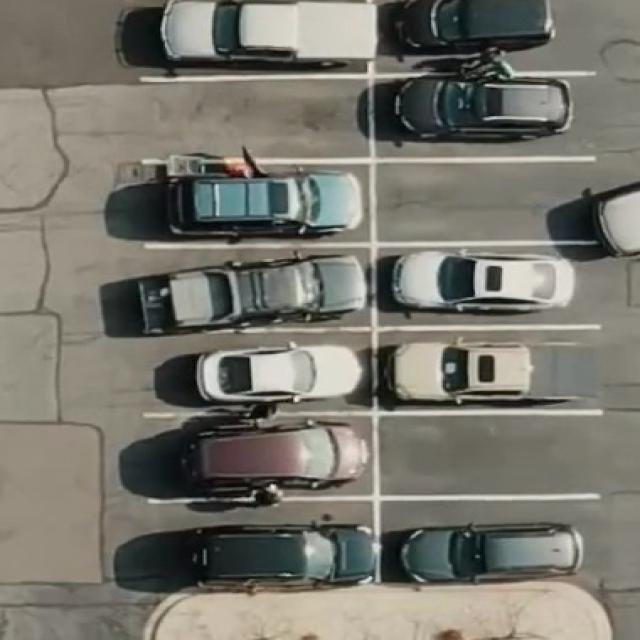space-empty: (138, 70, 371, 166), (372, 156, 593, 248), (372, 412, 600, 501)
space-occupied: (118, 497, 377, 595), (108, 239, 374, 330), (130, 410, 376, 502), (142, 323, 376, 412), (372, 323, 603, 412), (378, 496, 602, 584), (370, 68, 584, 160), (136, 159, 372, 242), (372, 238, 588, 326), (133, 0, 375, 76), (376, 0, 559, 65)
